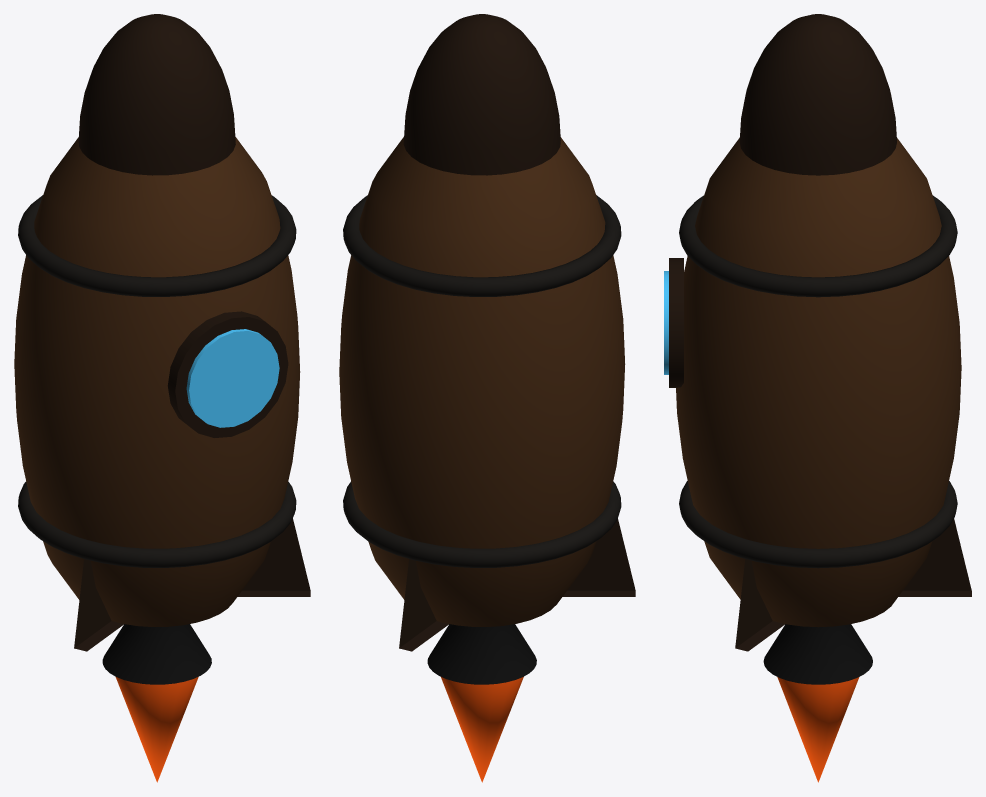
File: Rocket_02_BrassBarrel.obj
3 renders of one model, left to right at view 1: azimuth 30°, elevation 25°; view 2: azimuth 150°, elevation 25°; view 3: azimuth 270°, elevation 25°, orthographic.
Parts seen in each view (by area): view 1: R02_Body, R02_Nose, R02_Window_1, R02_Ring_2, R02_Ring_1, R02_Nozzle_1, R02_WindowFrame_1, R02_Flame_1, R02_Fin_3, R02_Fin_2; view 2: R02_Body, R02_Nose, R02_Ring_2, R02_Ring_1, R02_Nozzle_1, R02_Flame_1, R02_Fin_2, R02_Fin_1; view 3: R02_Body, R02_Nose, R02_Ring_2, R02_Ring_1, R02_Nozzle_1, R02_Flame_1, R02_Fin_1, R02_Fin_3, R02_WindowFrame_1.
Part boxes in pixels (x1,y1,x2,y2): R02_Body: (14, 137, 300, 626); R02_Nose: (78, 14, 235, 175); R02_Window_1: (186, 329, 279, 427); R02_Ring_2: (18, 195, 296, 296); R02_Ring_1: (18, 481, 296, 567); R02_Nozzle_1: (102, 624, 211, 684); R02_WindowFrame_1: (167, 311, 288, 437); R02_Flame_1: (115, 677, 198, 782); R02_Fin_3: (237, 518, 310, 596); R02_Fin_2: (74, 559, 124, 651); R02_Body: (339, 137, 625, 626); R02_Nose: (403, 14, 560, 175); R02_Ring_2: (343, 195, 621, 296); R02_Ring_1: (343, 481, 621, 567); R02_Nozzle_1: (427, 624, 536, 684); R02_Flame_1: (441, 677, 523, 782); R02_Fin_2: (562, 518, 635, 596); R02_Fin_1: (399, 559, 449, 651); R02_Body: (676, 137, 961, 627); R02_Nose: (739, 14, 896, 175); R02_Ring_2: (679, 195, 957, 297); R02_Ring_1: (679, 481, 957, 568); R02_Nozzle_1: (763, 624, 872, 684); R02_Flame_1: (777, 677, 859, 782); R02_Fin_1: (898, 519, 971, 596); R02_Fin_3: (735, 559, 785, 651); R02_WindowFrame_1: (669, 258, 683, 387).
Size of the model in its own units: 2.3 by 6.77 by 2.47.
